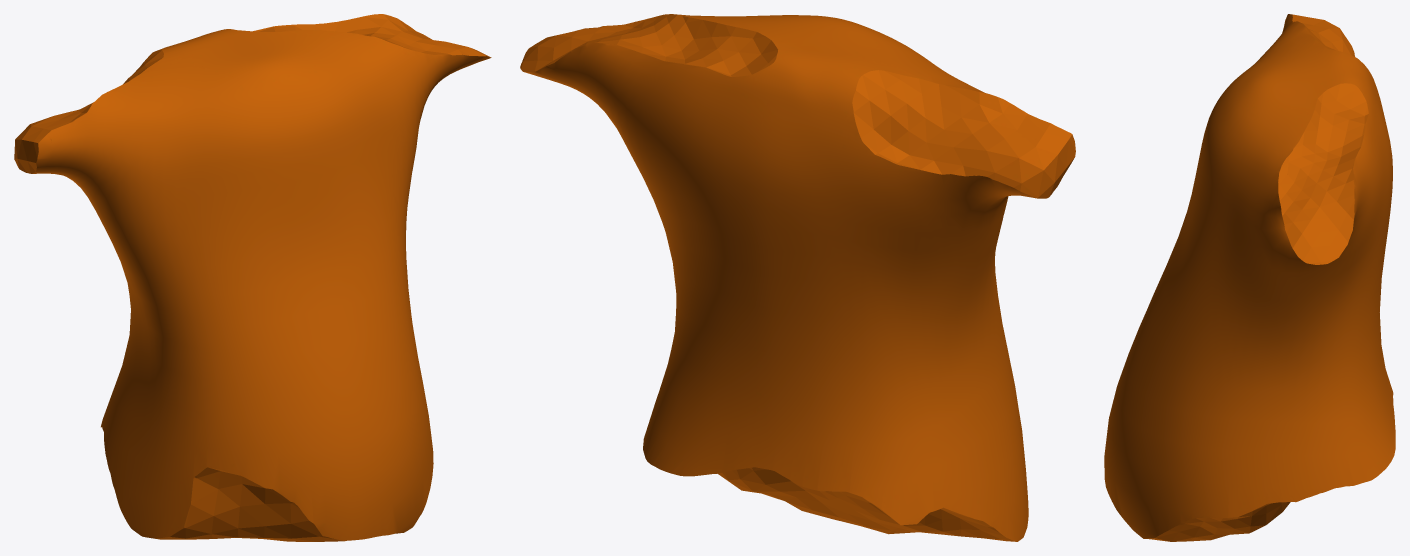
Rendered from body.002.fbx.
The picture shows the model from 3 angles, left to right: view 1: azimuth 30°, elevation 25°; view 2: azimuth 150°, elevation 25°; view 3: azimuth 270°, elevation 25°; orthographic projection. The views are drawn at different scales.
Visible parts, largest first — view 1: body.002_Baked; view 2: body.002_Baked; view 3: body.002_Baked.
Boxes of the visible parts, x1,y1,x2,y2 form: body.002_Baked: (14, 14, 491, 541); body.002_Baked: (520, 14, 1075, 541); body.002_Baked: (1104, 14, 1395, 541).
Size of the model in its own units: 224 by 209 by 127.
1 material, 1 textured.
